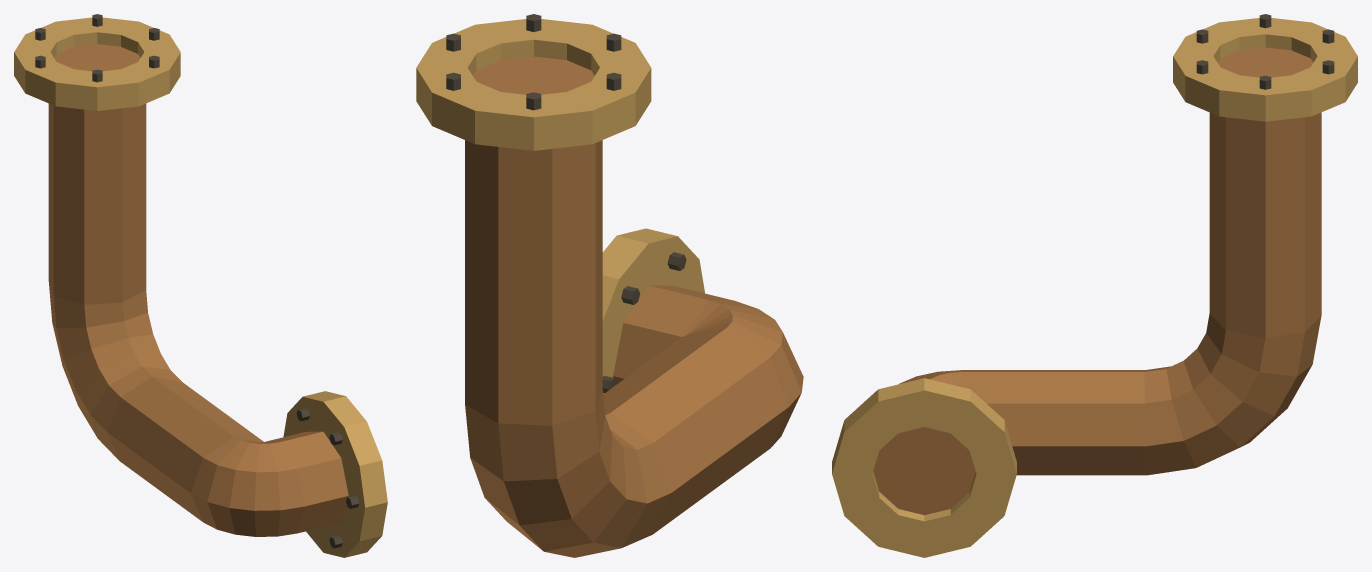
The model's file is pipe_run_04.glb.
3 renders of one model, left to right at view 1: azimuth 30°, elevation 25°; view 2: azimuth 150°, elevation 25°; view 3: azimuth 270°, elevation 25°, orthographic. The views are drawn at different scales.
Parts seen in each view (by area): view 1: Swept_pipe, End_1_Flange, End_0_Flange, End_1, End_0; view 2: Swept_pipe, End_1_Flange, End_0_Flange, End_1, End_0; view 3: Swept_pipe, End_0_Flange, End_1_Flange, End_1.
Boxes of the visible parts, bbox=[...] form: Swept_pipe: bbox=[48, 44, 348, 536]; End_1_Flange: bbox=[14, 17, 180, 110]; End_0_Flange: bbox=[283, 391, 387, 557]; End_1: bbox=[35, 14, 159, 82]; End_0: bbox=[296, 408, 359, 548]; Swept_pipe: bbox=[465, 56, 803, 557]; End_1_Flange: bbox=[416, 19, 651, 150]; End_0_Flange: bbox=[602, 228, 704, 393]; End_1: bbox=[446, 14, 621, 110]; End_0: bbox=[602, 252, 686, 393]; Swept_pipe: bbox=[873, 47, 1321, 515]; End_0_Flange: bbox=[832, 378, 1016, 557]; End_1_Flange: bbox=[1173, 18, 1357, 121]; End_1: bbox=[1196, 14, 1334, 89].
Size of the model in its own units: 0.4397 by 1.04 by 1.08.
